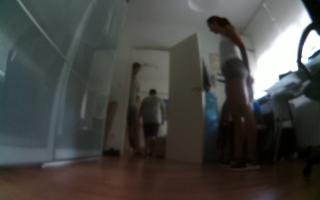person: (203, 13, 267, 173), (123, 57, 143, 160), (141, 85, 165, 159)
